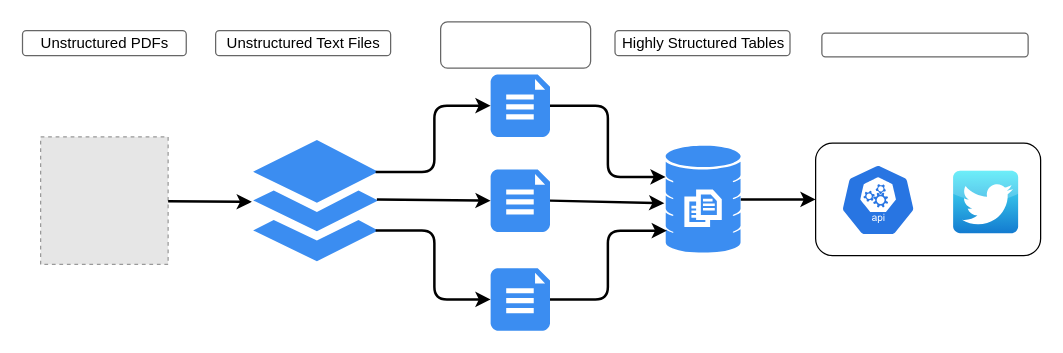
Image size: 1063x353. Some labels were removed from this diagram. Grey dashed boxes stand in for pictures. The centre of each missing label's shape, as x and y in pixels:
"Analysis available via Tweet" goes at [924,44].
"Semi-Sturctured Text Files" goes at [515,44].
